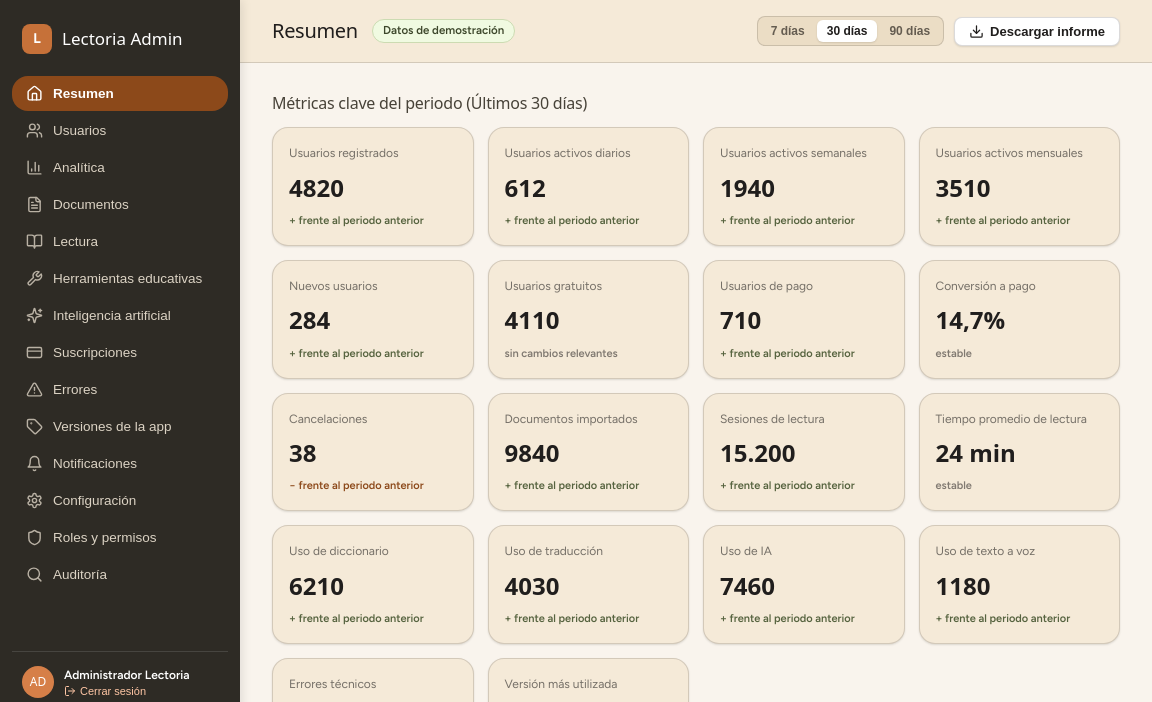
Test case: Admin Dashboard Component › allows switching date ranges and updates metric scaling
Click the button "7 días" at (788, 31), box left=761, top=20, right=815, bottom=42
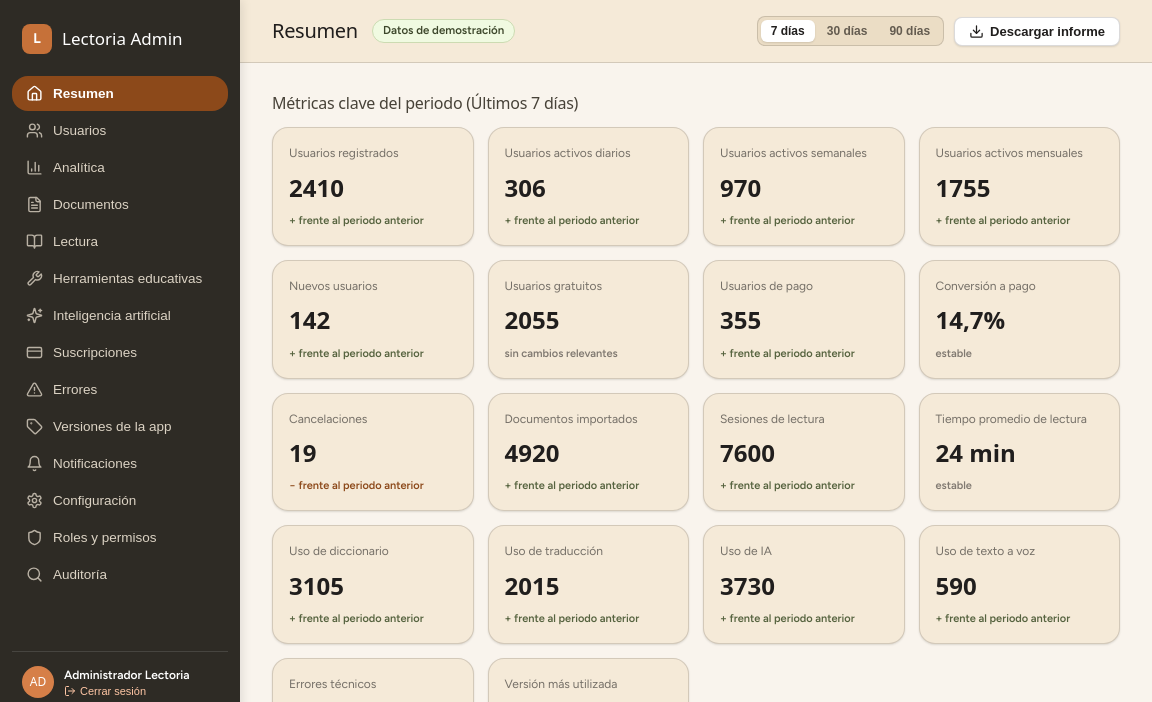
Check: the heading "Métricas clave del periodo (Últimos 7 días)" is shown, box left=272, top=92, right=578, bottom=114
